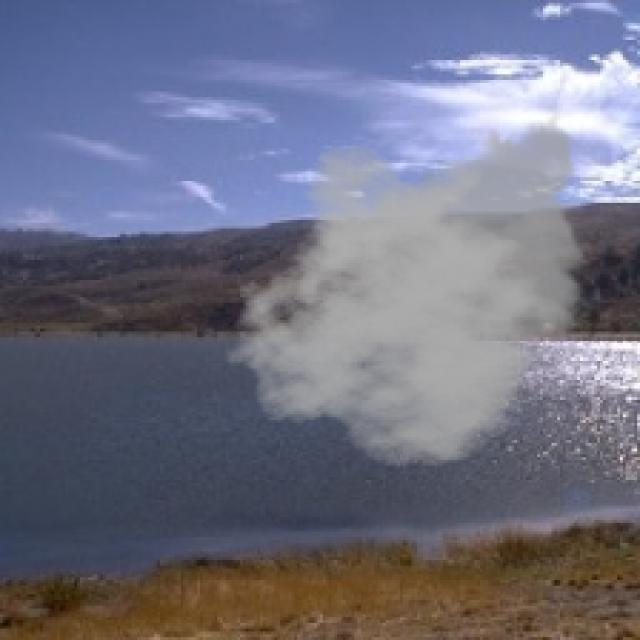smoke: (223, 106, 597, 468)
